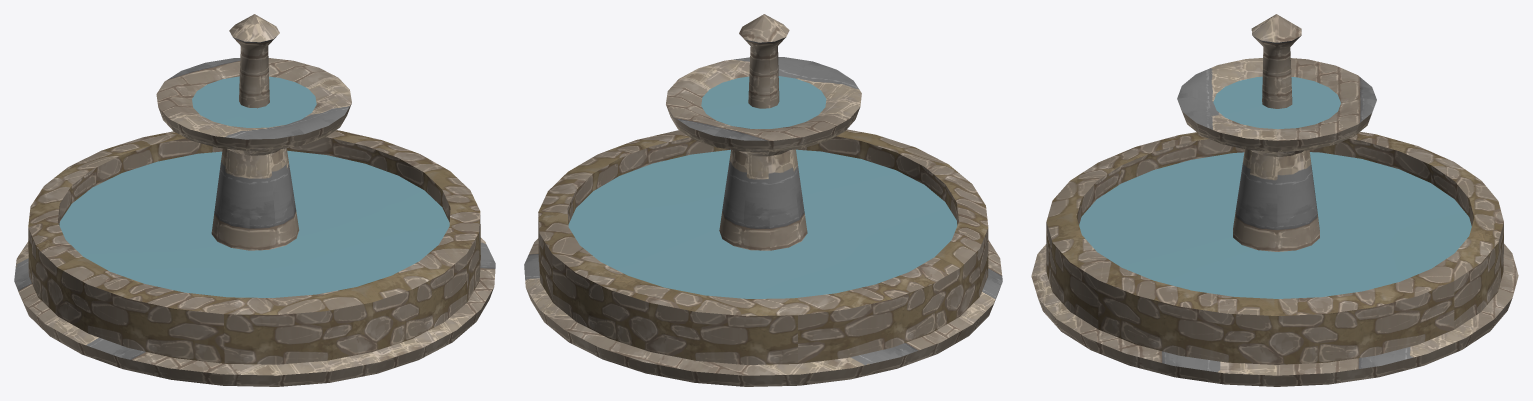
The model's file is S_fountain.gltf.
3 views of the same model, side by side, from view 1: azimuth 30°, elevation 25°; view 2: azimuth 150°, elevation 25°; view 3: azimuth 270°, elevation 25° (orthographic).
Parts seen in each view (by area): view 1: S_fountain; view 2: S_fountain; view 3: S_fountain.
Boxes of the visible parts, x1,y1,x2,y2 form: S_fountain: (14,14,495,386); S_fountain: (524,14,1002,386); S_fountain: (1031,14,1518,386).
Size of the model in its own units: 4.89 by 3.07 by 4.92.
3 materials, 2 textured.
